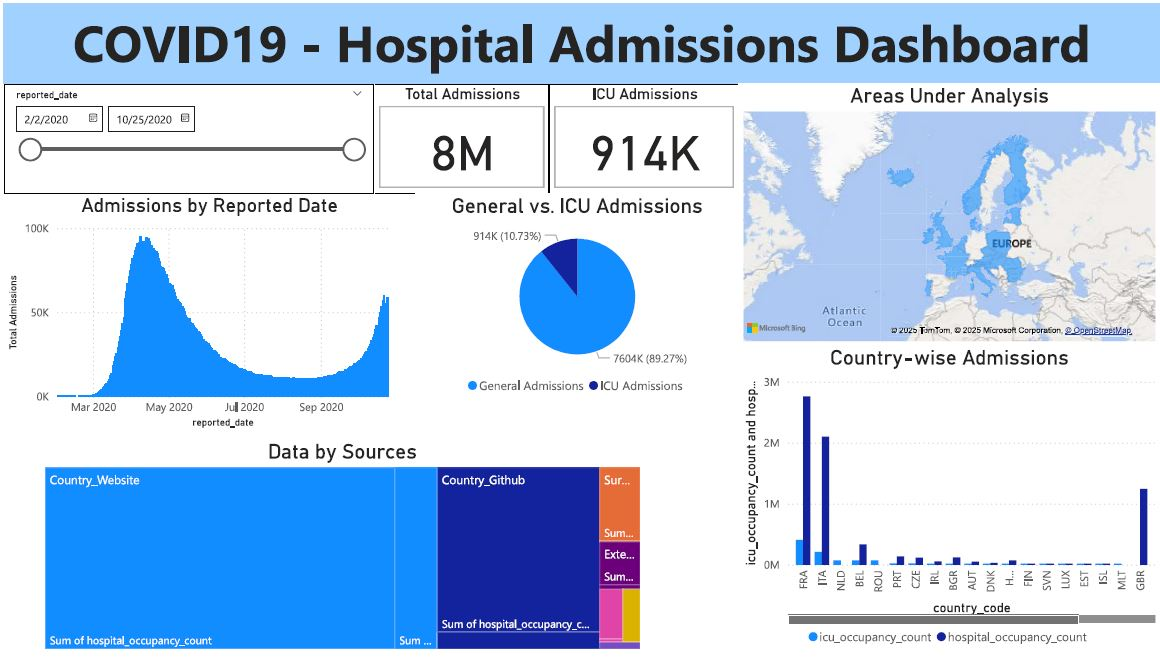

What the dashboard file says about the page in this screenshot:
{"tool":"powerbi","page":{"name":"Hospital Admissions","canvas":[1280,720],"ordinal":1},"visuals":[{"type":"columnChart","title":"Admissions by Reported Date","fields":{"Y":["Sum(covid_reporting hospital_admissions_daily.hospital_occupancy_count)"],"Category":["covid_reporting hospital_admissions_daily.reported_date"]},"box":[0,211.3,455.6,263.5],"z":0},{"type":"cardVisual","title":"Total Admissions","fields":{"Data":["Sum(covid_reporting hospital_admissions_daily.hospital_occupancy_count)"]},"box":[410.3,89.2,193.5,122.1],"z":1000},{"type":"cardVisual","title":"ICU Admissions","fields":{"Data":["Sum(covid_reporting hospital_admissions_daily.icu_occupancy_count)"]},"box":[603.8,89.2,209.9,122.1],"z":2000},{"type":"slicer","fields":{"Values":["covid_reporting hospital_admissions_daily.reported_date"]},"box":[0,89.2,410.3,122.1],"z":3000},{"type":"clusteredColumnChart","title":"Country-wise Admissions","fields":{"Y":["Sum(covid_reporting hospital_admissions_daily.icu_occupancy_count)","Sum(covid_reporting hospital_admissions_daily.hospital_occupancy_count)"],"Category":["covid_reporting hospital_admissions_daily.country_code_3_digit"]},"box":[814.3,378.6,465.7,341.4],"z":4000},{"type":"pieChart","title":"General vs. ICU Admissions","fields":{"Y":["Sum(covid_reporting hospital_admissions_daily.hospital_occupancy_count)","Sum(covid_reporting hospital_admissions_daily.icu_occupancy_count)"]},"box":[455.6,211.3,358.1,230.5],"z":5000},{"type":"textbox","box":[0,0,1280.3,89.2],"z":6000},{"type":"filledMap","title":"Areas Under Analysis","fields":{"Category":["covid_reporting hospital_admissions_daily.country","covid_reporting hospital_admissions_daily.hospital_occupancy_count"]},"box":[813.7,89.2,466.6,289.5],"z":7000},{"type":"treemap","title":"Data by Sources","fields":{"Group":["covid_reporting hospital_admissions_daily.source"],"Values":["Sum(covid_reporting hospital_admissions_daily.hospital_occupancy_count)","Sum(covid_reporting hospital_admissions_daily.icu_occupancy_count)"]},"box":[41.2,483,668.3,237.4],"z":8000}]}

Visuals, with their boxes in screenshot pixels (x1, y1, x2, y2), scaled from the page's 1280x720 canvas onto the 1160x671 screenshot:
"Admissions by Reported Date" columnChart: {"x1": 0, "y1": 197, "x2": 413, "y2": 442}
"Total Admissions" cardVisual: {"x1": 372, "y1": 83, "x2": 547, "y2": 197}
"ICU Admissions" cardVisual: {"x1": 547, "y1": 83, "x2": 737, "y2": 197}
slicer - covid_reporting hospital_admissions_daily.reported_date: {"x1": 0, "y1": 83, "x2": 372, "y2": 197}
"Country-wise Admissions" clusteredColumnChart: {"x1": 738, "y1": 353, "x2": 1159, "y2": 670}
"General vs. ICU Admissions" pieChart: {"x1": 413, "y1": 197, "x2": 737, "y2": 412}
textbox: {"x1": 0, "y1": 0, "x2": 1159, "y2": 83}
"Areas Under Analysis" filledMap: {"x1": 737, "y1": 83, "x2": 1159, "y2": 353}
"Data by Sources" treemap: {"x1": 37, "y1": 450, "x2": 643, "y2": 670}
